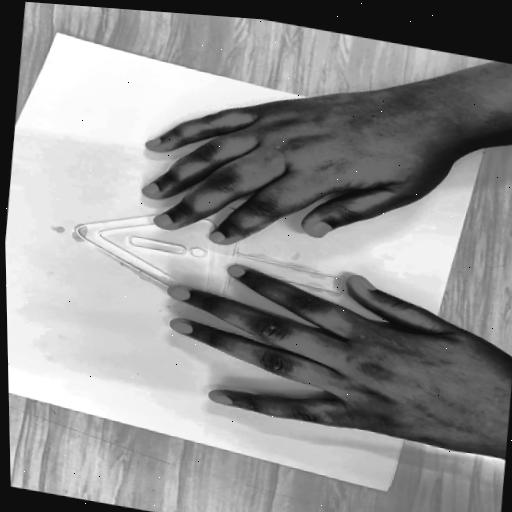bottom_left: (477, 129, 498, 144)
bottom_right: (379, 485, 396, 496)
signboard: (51, 160, 366, 352)
top_left: (51, 28, 66, 37)
